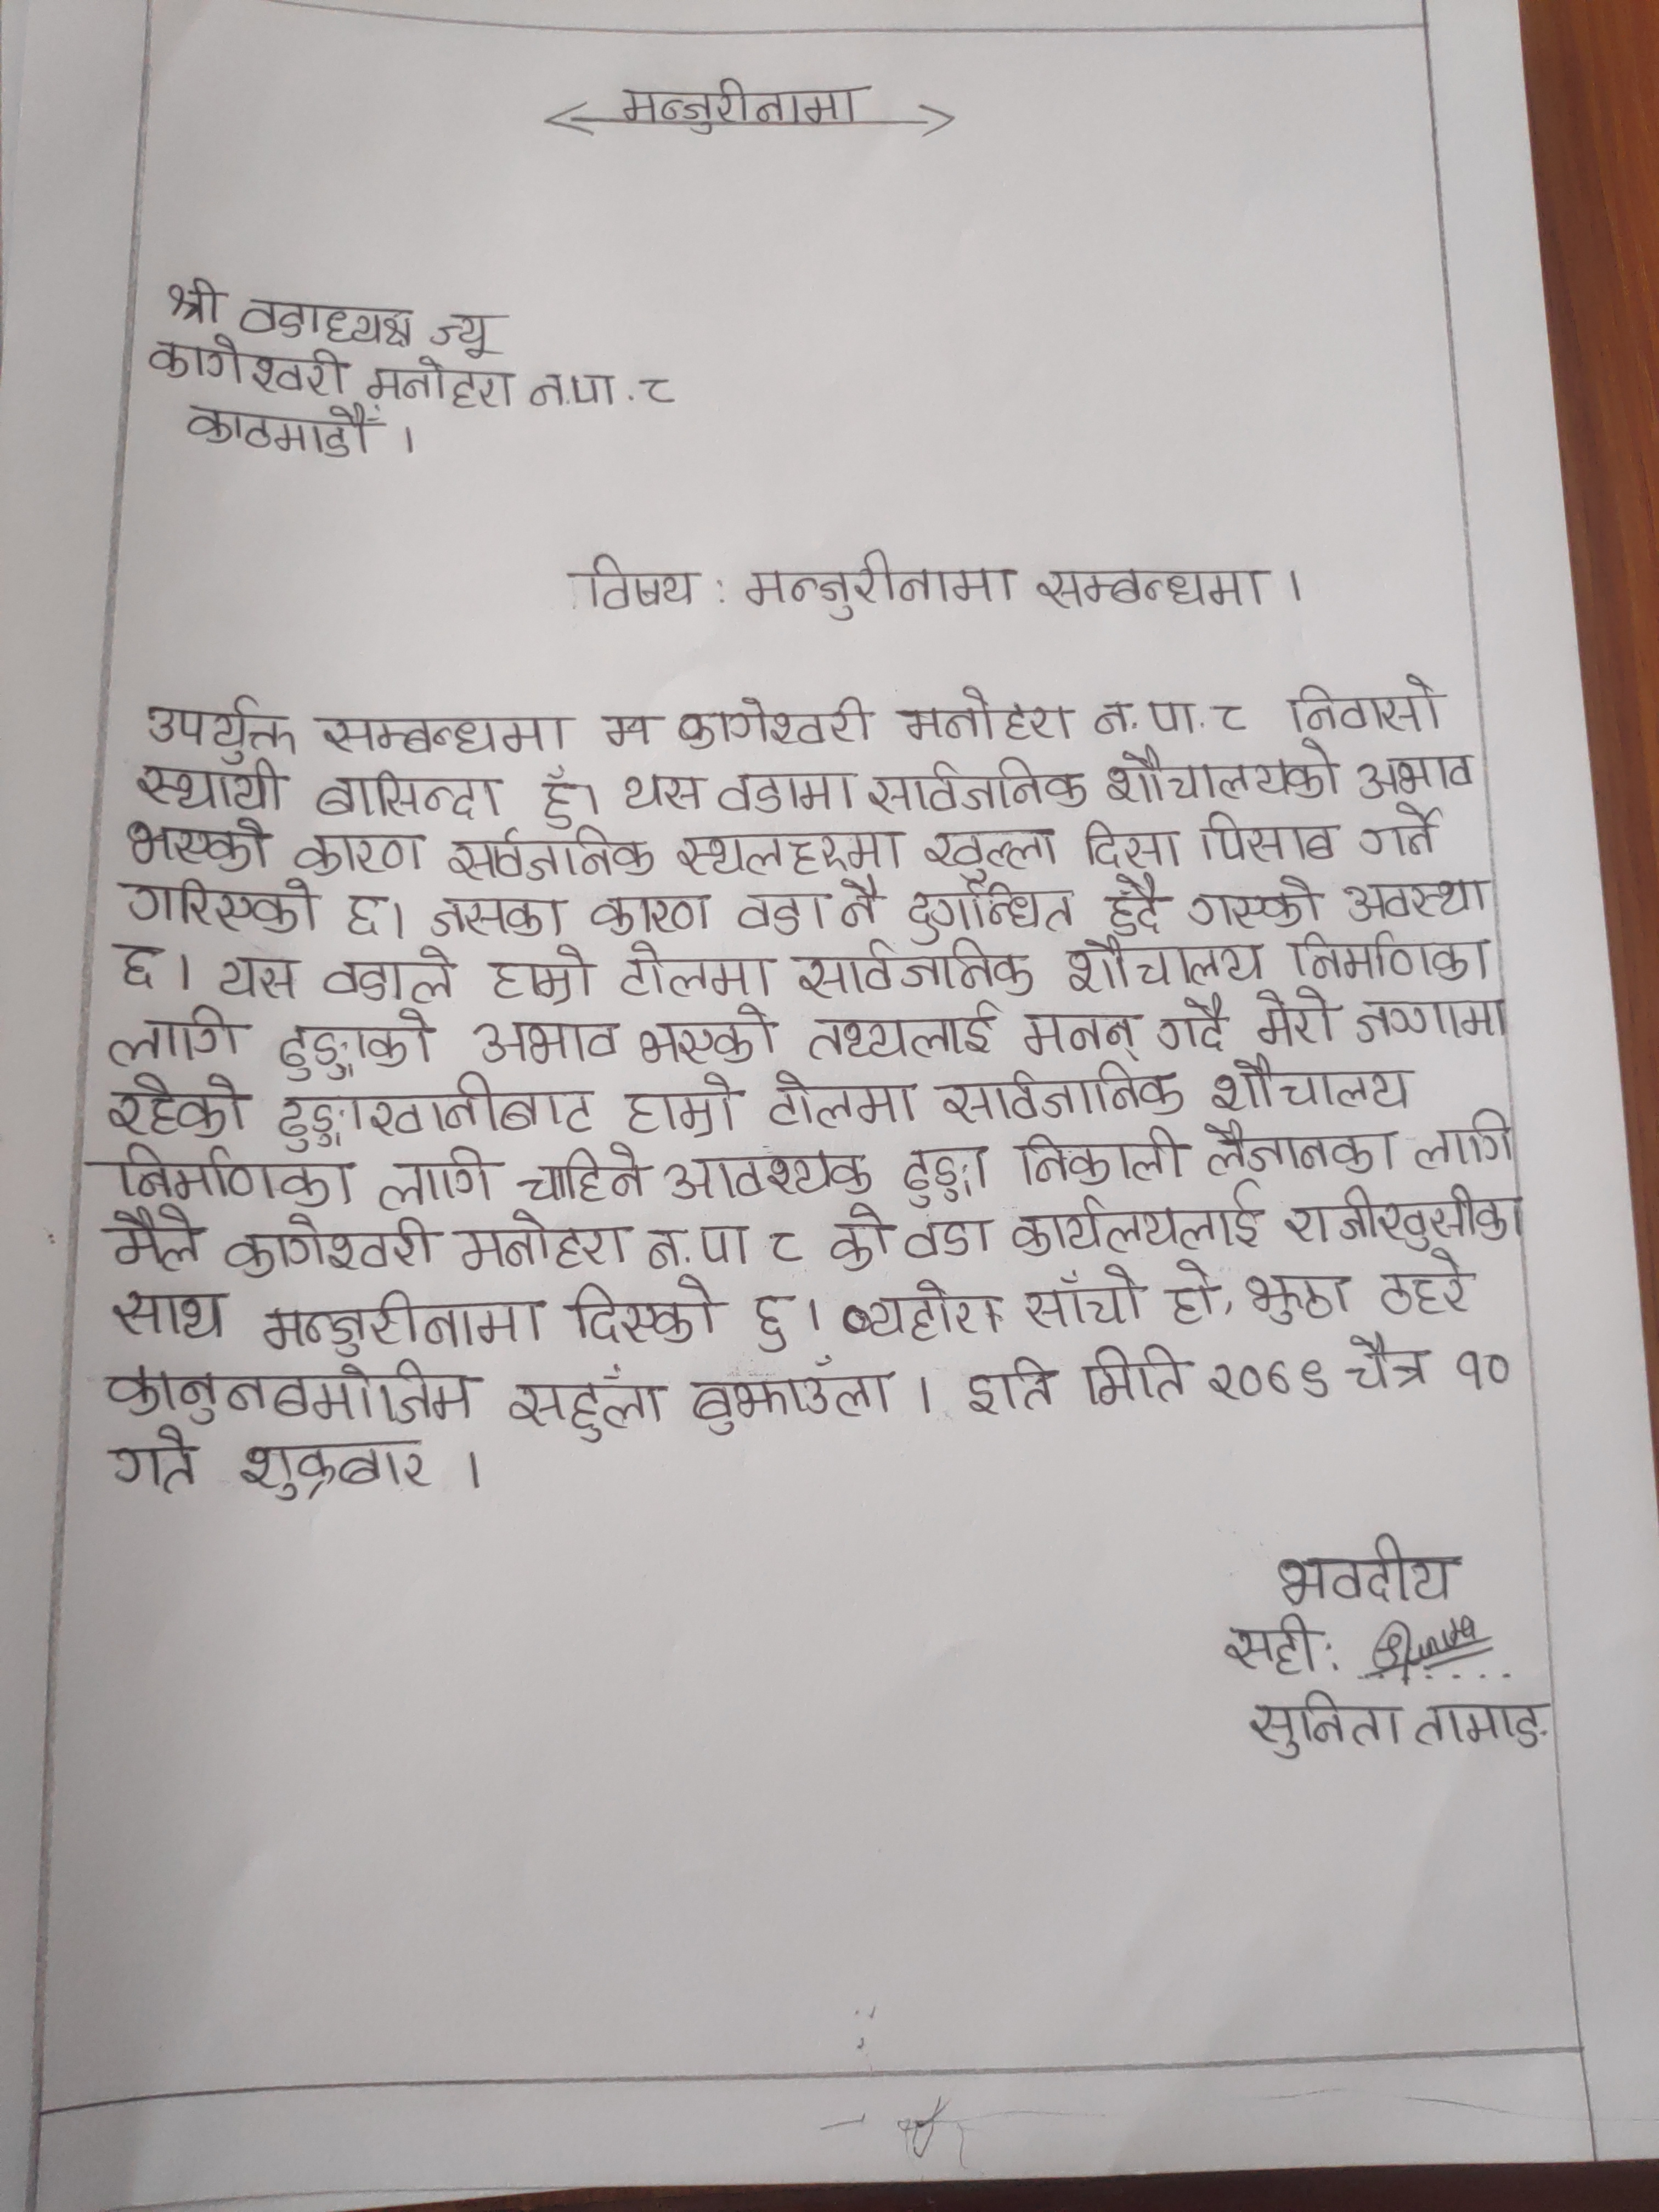text: (103, 1357, 490, 1426), (277, 1075, 599, 1150), (261, 1289, 549, 1359), (746, 549, 1019, 622), (1007, 1190, 1263, 1258), (692, 1359, 903, 1439), (96, 1143, 356, 1207), (934, 1064, 1185, 1127), (1284, 1184, 1523, 1247), (615, 77, 875, 134), (1267, 1533, 1462, 1606), (1105, 742, 1344, 801), (237, 1437, 434, 1508), (796, 941, 1033, 1000), (145, 333, 345, 402), (223, 1216, 444, 1278), (505, 1366, 671, 1444), (1033, 561, 1272, 615), (1246, 1686, 1408, 1764), (1288, 928, 1492, 989), (870, 758, 1086, 815), (317, 709, 572, 758), (136, 695, 298, 770), (803, 1005, 1002, 1066), (185, 399, 382, 460), (1199, 1122, 1401, 1181), (1065, 935, 1270, 993), (274, 1010, 437, 1082), (125, 878, 326, 935), (676, 695, 882, 751), (568, 1273, 723, 1346), (1012, 1125, 1188, 1190), (455, 1211, 629, 1275), (448, 826, 657, 878), (676, 827, 904, 874), (836, 1280, 1007, 1343), (1211, 1059, 1413, 1111), (666, 1144, 875, 1195), (901, 686, 1077, 745), (103, 1071, 251, 1141), (1284, 671, 1443, 735), (239, 294, 415, 352), (903, 883, 1075, 941), (315, 770, 505, 820), (638, 1000, 779, 1068), (108, 1001, 247, 1068), (129, 813, 279, 874), (324, 944, 464, 1007), (620, 944, 777, 1000), (1415, 1700, 1554, 1763), (620, 1073, 746, 1141), (1021, 1264, 1147, 1332), (136, 761, 289, 815), (1354, 993, 1507, 1047), (765, 1075, 918, 1129), (368, 355, 516, 411), (572, 550, 706, 611), (1075, 1343, 1197, 1409), (378, 1150, 505, 1212), (289, 826, 430, 881), (1197, 810, 1338, 866), (519, 1150, 652, 1209), (920, 822, 1060, 878), (427, 888, 566, 944), (476, 1014, 620, 1066), (716, 766, 864, 817), (1188, 878, 1328, 930), (1377, 1247, 1476, 1320), (1413, 1109, 1523, 1174), (101, 1207, 202, 1275), (106, 1285, 227, 1341), (1244, 1266, 1356, 1325), (1016, 1008, 1141, 1061), (1204, 1357, 1328, 1409), (1223, 1609, 1319, 1676), (1356, 749, 1480, 799), (486, 949, 598, 1005), (110, 1428, 202, 1494), (1344, 1331, 1438, 1393), (592, 890, 709, 941), (1344, 880, 1490, 920), (897, 1144, 993, 1205), (1077, 815, 1183, 869), (965, 1357, 1060, 1418), (647, 1223, 756, 1273), (1154, 996, 1239, 1055), (1255, 991, 1338, 1050), (826, 1202, 894, 1273), (732, 888, 831, 937), (1363, 801, 1445, 855), (1101, 874, 1173, 935), (897, 1219, 995, 1263), (528, 369, 620, 415), (1091, 700, 1199, 738), (1446, 1339, 1516, 1399), (220, 954, 303, 1003), (1164, 1259, 1223, 1327), (429, 314, 512, 361), (164, 275, 234, 327), (624, 770, 709, 812), (530, 768, 584, 829), (117, 939, 173, 996), (836, 876, 892, 930), (751, 1292, 796, 1357), (603, 709, 655, 759), (342, 890, 389, 939), (762, 1219, 805, 1264), (1209, 693, 1249, 735), (638, 373, 678, 411)
